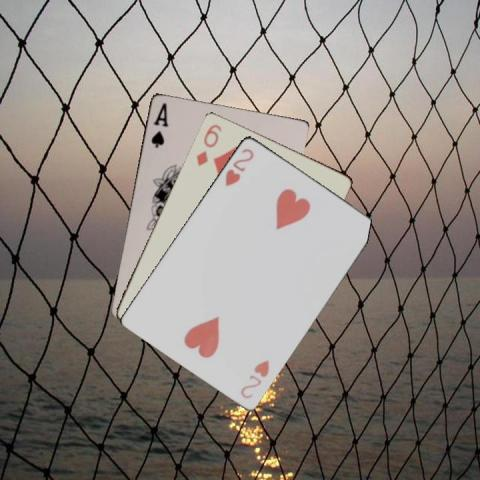2h: (237, 356, 271, 400), (222, 145, 255, 188)
6d: (192, 121, 222, 167)
As: (148, 99, 169, 149)
